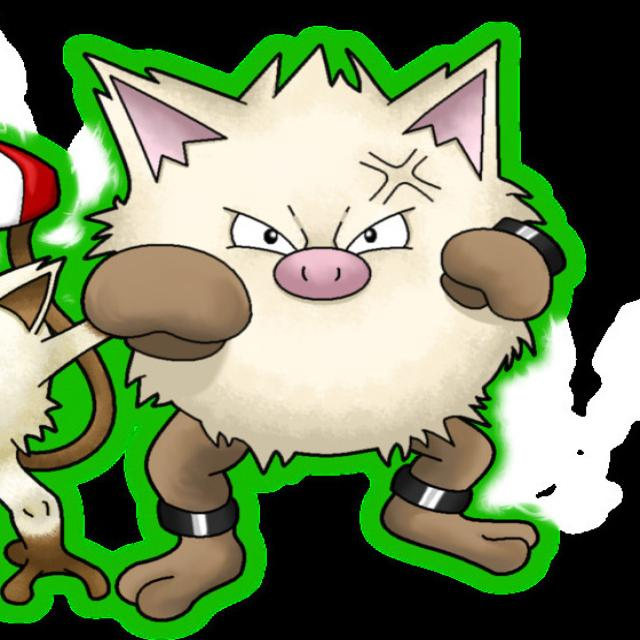Primeape: (94, 50, 554, 566)
